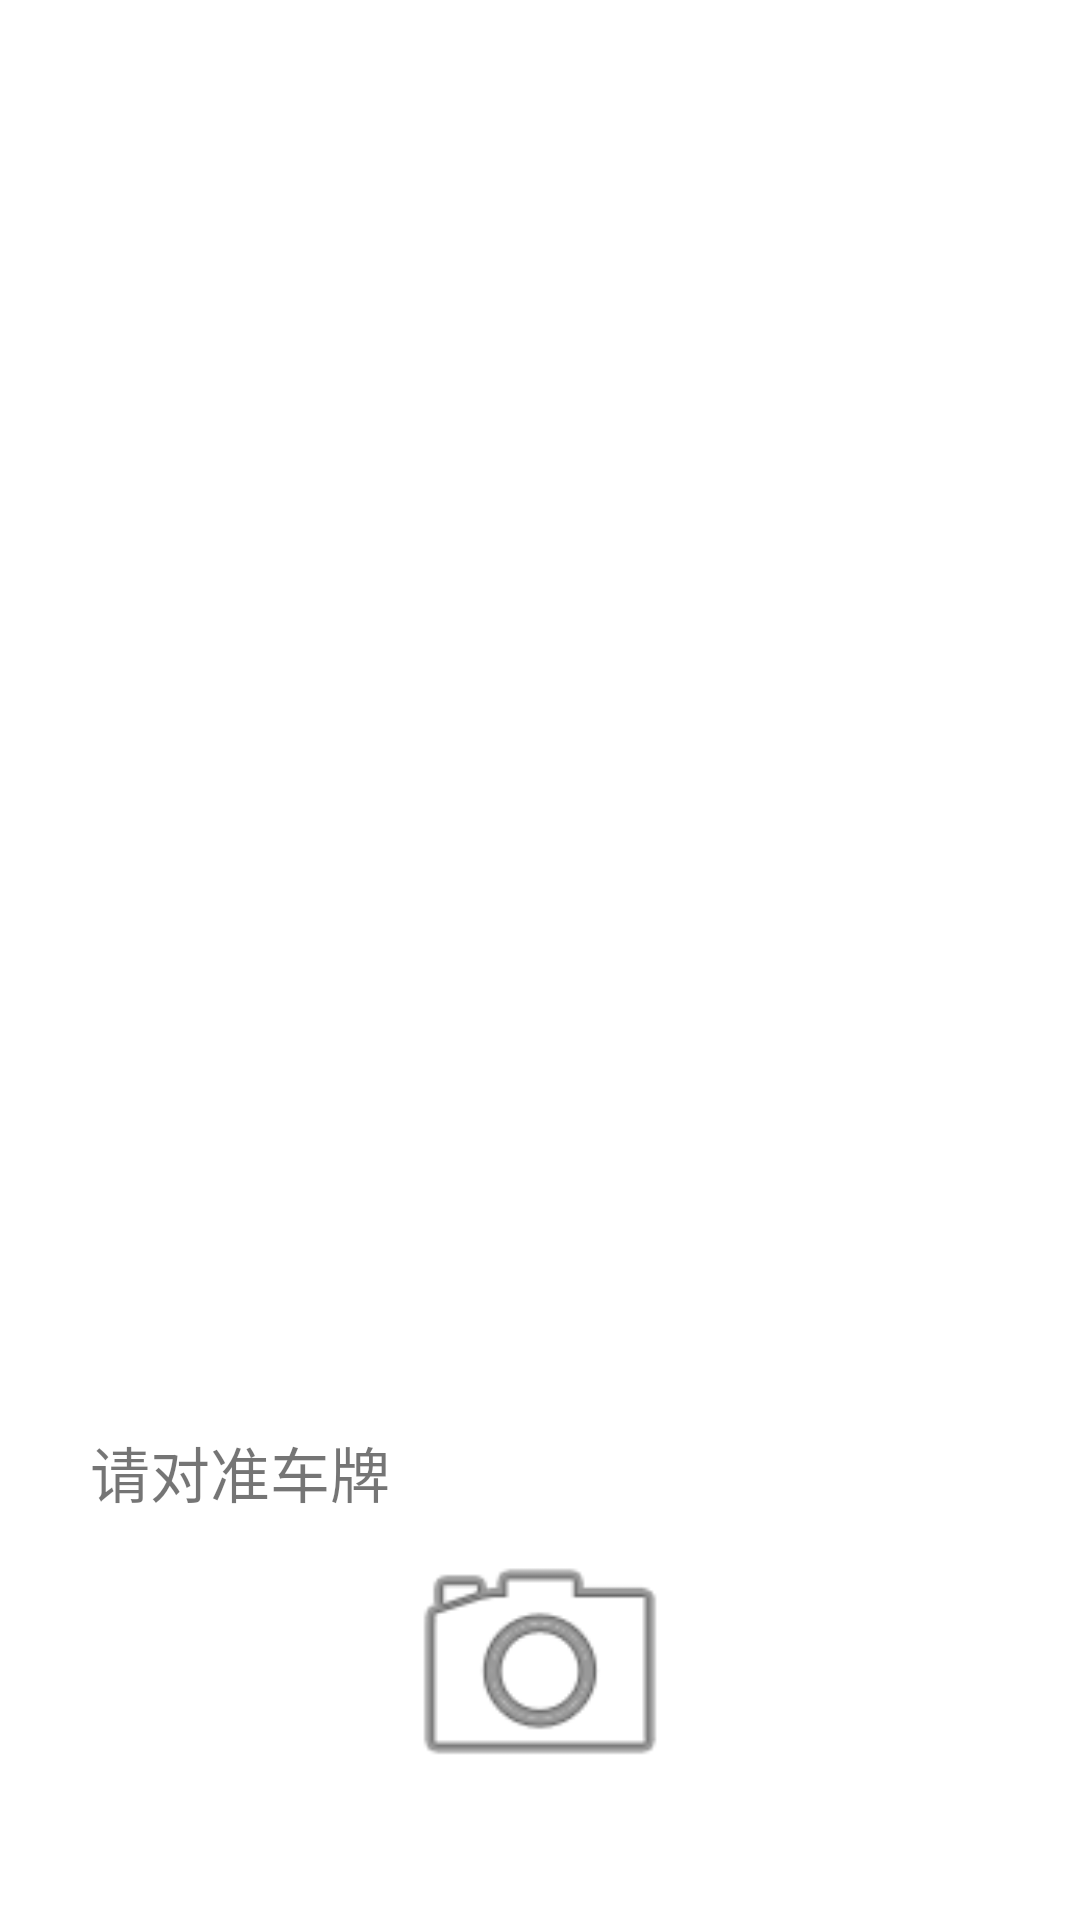

Icons on this 1080×1920 Android screen, each with its box as (x1, y1, x2, y2):
camera: (424, 1569, 656, 1754)
